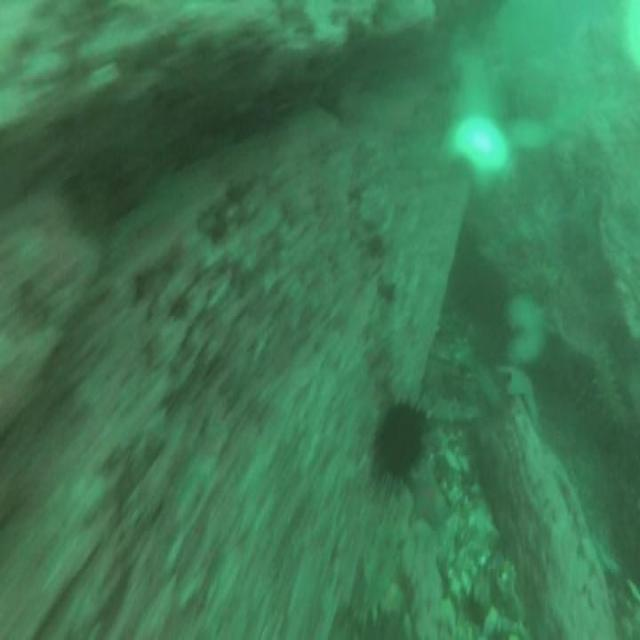echinus: (374, 389, 428, 488)
holothurian: (590, 338, 630, 430), (415, 382, 477, 427), (509, 258, 562, 296)
starfish: (499, 357, 543, 425)
